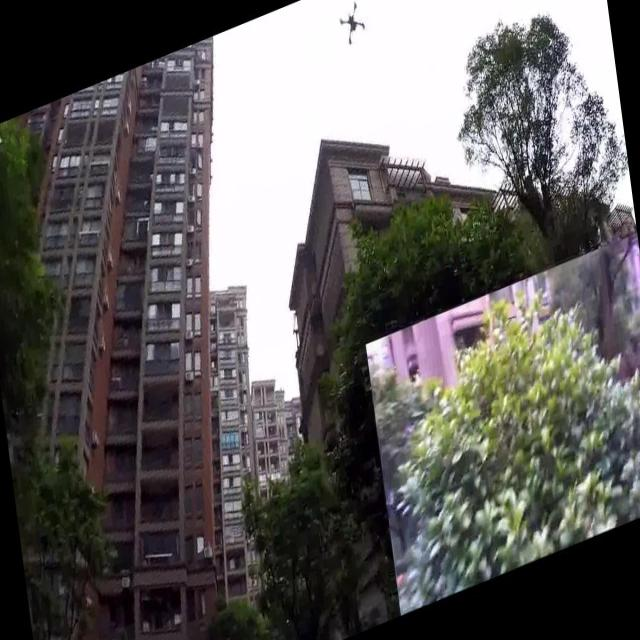drone: (336, 0, 369, 53)
